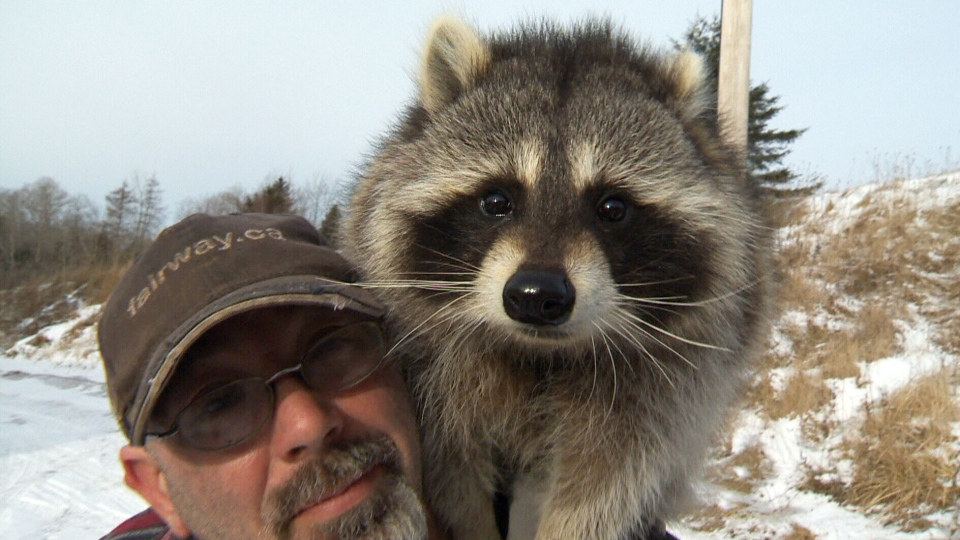raccoon: (355, 3, 777, 540)
